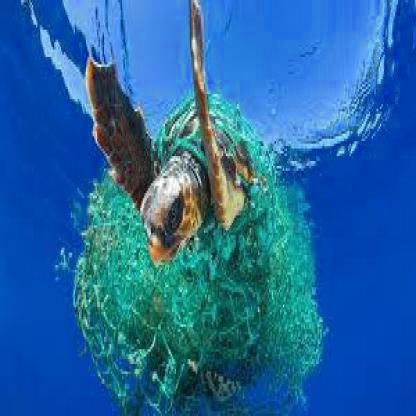net: (75, 92, 312, 398)
